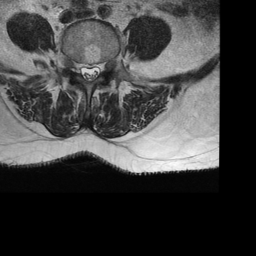CCS_normal: (86, 55, 93, 88)
LFS_normal: (101, 52, 109, 80)
LLS_normal: (93, 55, 100, 83)
RFS_normal: (71, 52, 79, 80)
RLS_normal: (79, 55, 86, 82)
